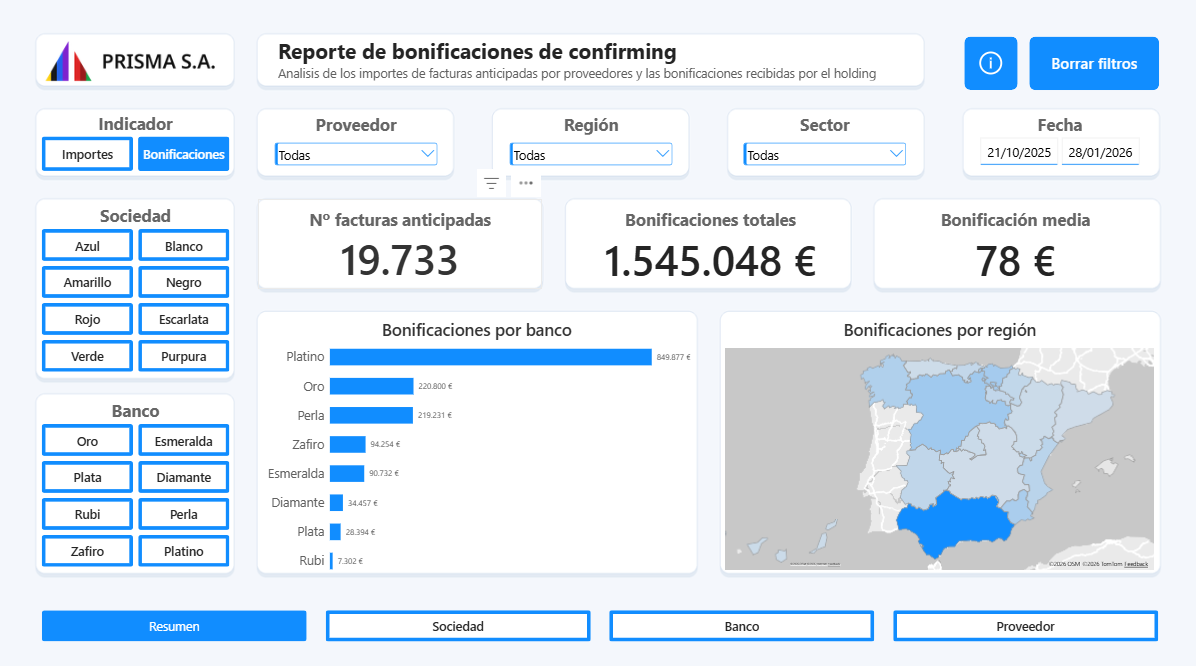

The dashboard page shown, as its layout file describes it:
{"tool":"powerbi","page":{"name":"Resumen","canvas":[1920,1080],"ordinal":0},"visuals":[{"type":"cardVisual","fields":{"Data":["Registro_Bonificaciones.Sel_Importes"]},"box":[912,320,456,144],"z":0},{"type":"cardVisual","title":"Nº facturas anticipadas","fields":{"Data":["CountNonNull(Historial Bonificaciones de Confirming con formulas.Nº Factura)"]},"box":[416,320.2,454.6,143.6],"z":1000},{"type":"azureMap","fields":{"Category":["CCAA_Proveedor.Comunidad Autónoma"]},"box":[1156,496,702,418],"z":1000,"group":"g1"},{"type":"azureMap","fields":{"Category":["CCAA_Proveedor.Comunidad Autónoma"]},"box":[1156,818,204,92],"z":1500,"group":"g1"},{"type":"barChart","fields":{"Category":["Banco.Nombre_Corto_Banco"],"Y":["Registro_Bonificaciones.Sel_Importes"]},"box":[415,495,700,417.5],"z":2000},{"type":"shape","title":"Reporte de bonificaciones de confirming","box":[448,60,1030,80],"z":3000},{"type":"cardVisual","fields":{"Data":["Registro_Bonificaciones.Promedio_Dinamico"]},"box":[1400,320,456,144],"z":4000},{"type":"actionButton","box":[1650,60,208,86],"z":5000},{"type":"image","box":[60.5,60,320,80],"z":6000},{"type":"advancedSlicerVisual","title":"Sociedad","fields":{"Values":["Sociedad.Nombre_Corto_Sociedad"]},"box":[70.5,328,300,270],"z":7000},{"type":"pageNavigator","box":[70,978,1786,50],"z":8000},{"type":"advancedSlicerVisual","title":"Banco","fields":{"Values":["Banco.Nombre_Corto_Banco"]},"box":[70.5,640,300,270],"z":9000},{"type":"slicer","title":"Proveedor","fields":{"Values":["proveedores.Nombre_Proveedor"]},"box":[438,182,270,100],"z":10000},{"type":"slicer","title":"Región","fields":{"Values":["CCAA_Proveedor.Comunidad Autónoma"]},"box":[814,182,270,100],"z":11000},{"type":"advancedSlicerVisual","title":"Indicador","fields":{"Values":["Selector.Selector"]},"box":[70.5,180,300,96],"z":12000},{"type":"slicer","title":"Fecha","fields":{"Values":["registro_bonificaciones.F. Anticipo"]},"box":[1564,182,270,100],"z":13000},{"type":"slicer","title":"Sector","fields":{"Values":["Proveedor.Sector"]},"box":[1188,182,270,100],"z":14000},{"type":"shape","box":[1572.1,250.7,123.6,29.3],"z":15000},{"type":"shape","box":[1702.1,250.7,123.6,29.3],"z":16000},{"type":"actionButton","box":[1545.6,60,85.6,85.6],"z":17000},{"type":"group","id":"g1","title":"Mapa","box":[1156,496,702,418],"z":18000}]}

Visuals, with their boxes in screenshot pixels (x1, y1, x2, y2), scaled from the page's 1920x1080 canvas onto the 1196x666 screenshot:
cardVisual - Registro_Bonificaciones.Sel_Importes: box=[568, 197, 852, 286]
"Nº facturas anticipadas" cardVisual: box=[259, 197, 542, 286]
azureMap - CCAA_Proveedor.Comunidad Autónoma: box=[720, 306, 1157, 564]
azureMap - CCAA_Proveedor.Comunidad Autónoma: box=[720, 504, 847, 561]
barChart - Banco.Nombre_Corto_Banco x Registro_Bonificaciones.Sel_Importes: box=[259, 305, 695, 563]
"Reporte de bonificaciones de confirming" shape: box=[279, 37, 921, 86]
cardVisual - Registro_Bonificaciones.Promedio_Dinamico: box=[872, 197, 1156, 286]
actionButton: box=[1028, 37, 1157, 90]
image: box=[38, 37, 237, 86]
"Sociedad" advancedSlicerVisual: box=[44, 202, 231, 369]
pageNavigator: box=[44, 603, 1156, 634]
"Banco" advancedSlicerVisual: box=[44, 395, 231, 561]
"Proveedor" slicer: box=[273, 112, 441, 174]
"Región" slicer: box=[507, 112, 675, 174]
"Indicador" advancedSlicerVisual: box=[44, 111, 231, 170]
"Fecha" slicer: box=[974, 112, 1142, 174]
"Sector" slicer: box=[740, 112, 908, 174]
shape: box=[979, 155, 1056, 173]
shape: box=[1060, 155, 1137, 173]
actionButton: box=[963, 37, 1016, 90]
"Mapa" group: box=[720, 306, 1157, 564]
